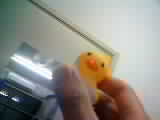duck: (69, 42, 112, 93)
